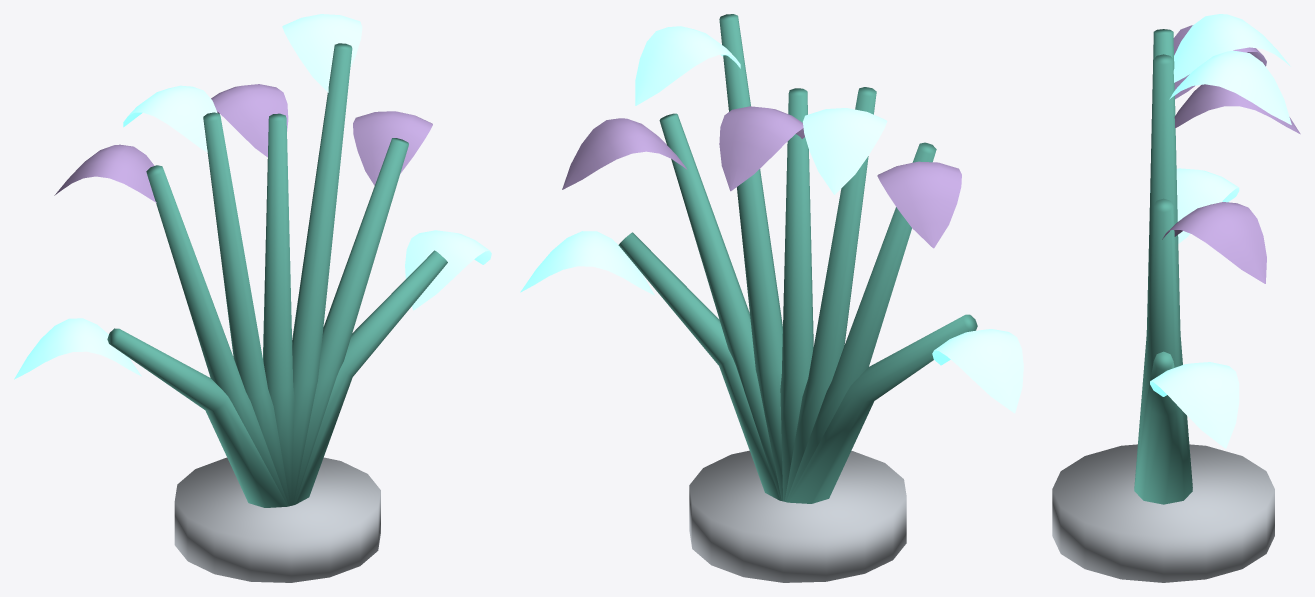
The model's file is pond_riverfan.glb.
3 views of the same model, side by side, from view 1: azimuth 30°, elevation 25°; view 2: azimuth 150°, elevation 25°; view 3: azimuth 270°, elevation 25° (orthographic). The views are drawn at different scales.
Parts seen in each view (by area): view 1: POND_riverfan_root, POND_riverfan_stalk_2, POND_riverfan_stalk_3, POND_riverfan_stalk_4, POND_riverfan_stalk_1, POND_riverfan_stalk_5, POND_riverfan_stalk_6, POND_riverfan_stalk_0, POND_riverfan_coral_2, POND_riverfan_coral_1, POND_riverfan_coral_3, POND_riverfan_coral_0 (+3 smaller); view 2: POND_riverfan_root, POND_riverfan_stalk_2, POND_riverfan_stalk_3, POND_riverfan_stalk_1, POND_riverfan_stalk_4, POND_riverfan_stalk_6, POND_riverfan_stalk_5, POND_riverfan_stalk_0, POND_riverfan_coral_4, POND_riverfan_coral_5, POND_riverfan_coral_6, POND_riverfan_coral_3 (+3 smaller); view 3: POND_riverfan_root, POND_riverfan_stalk_0, POND_riverfan_coral_0, POND_riverfan_stalk_2, POND_riverfan_stalk_1, POND_riverfan_coral_1, POND_riverfan_coral_2, POND_riverfan_coral_4, POND_riverfan_coral_6, POND_riverfan_coral_3, POND_riverfan_stalk_4, POND_riverfan_coral_5 (+2 smaller).
Boxes of the visible parts, x1,y1,x2,y2 form: POND_riverfan_root: [174, 457, 380, 582]; POND_riverfan_stalk_2: [292, 43, 352, 505]; POND_riverfan_stalk_3: [263, 113, 294, 505]; POND_riverfan_stalk_4: [203, 112, 290, 506]; POND_riverfan_stalk_1: [293, 138, 408, 505]; POND_riverfan_stalk_5: [146, 165, 288, 506]; POND_riverfan_stalk_6: [107, 328, 287, 507]; POND_riverfan_stalk_0: [294, 250, 447, 504]; POND_riverfan_coral_2: [282, 14, 362, 92]; POND_riverfan_coral_1: [353, 111, 432, 185]; POND_riverfan_coral_3: [211, 84, 288, 157]; POND_riverfan_coral_0: [405, 230, 491, 310]; POND_riverfan_root: [689, 450, 906, 582]; POND_riverfan_stalk_2: [719, 14, 782, 501]; POND_riverfan_stalk_3: [780, 88, 813, 501]; POND_riverfan_stalk_1: [659, 113, 781, 500]; POND_riverfan_stalk_4: [784, 87, 876, 501]; POND_riverfan_stalk_6: [787, 314, 977, 503]; POND_riverfan_stalk_5: [786, 142, 936, 502]; POND_riverfan_stalk_0: [618, 232, 780, 500]; POND_riverfan_coral_4: [803, 108, 887, 194]; POND_riverfan_coral_5: [877, 161, 961, 248]; POND_riverfan_coral_6: [932, 329, 1023, 413]; POND_riverfan_coral_3: [719, 106, 804, 191]; POND_riverfan_root: [1052, 444, 1274, 582]; POND_riverfan_stalk_0: [1134, 351, 1192, 504]; POND_riverfan_coral_0: [1150, 362, 1239, 448]; POND_riverfan_stalk_2: [1134, 54, 1192, 489]; POND_riverfan_stalk_1: [1135, 198, 1192, 488]; POND_riverfan_coral_1: [1162, 202, 1266, 283]; POND_riverfan_coral_2: [1169, 51, 1291, 124]; POND_riverfan_coral_4: [1173, 14, 1290, 82]; POND_riverfan_coral_6: [1150, 168, 1239, 243]; POND_riverfan_coral_3: [1174, 84, 1300, 134]; POND_riverfan_stalk_4: [1134, 29, 1192, 488]; POND_riverfan_coral_5: [1173, 25, 1266, 99].
Size of the model in its own units: 1.36 by 1.33 by 0.58.
